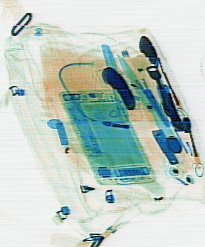scissors: (113, 53, 168, 127)
